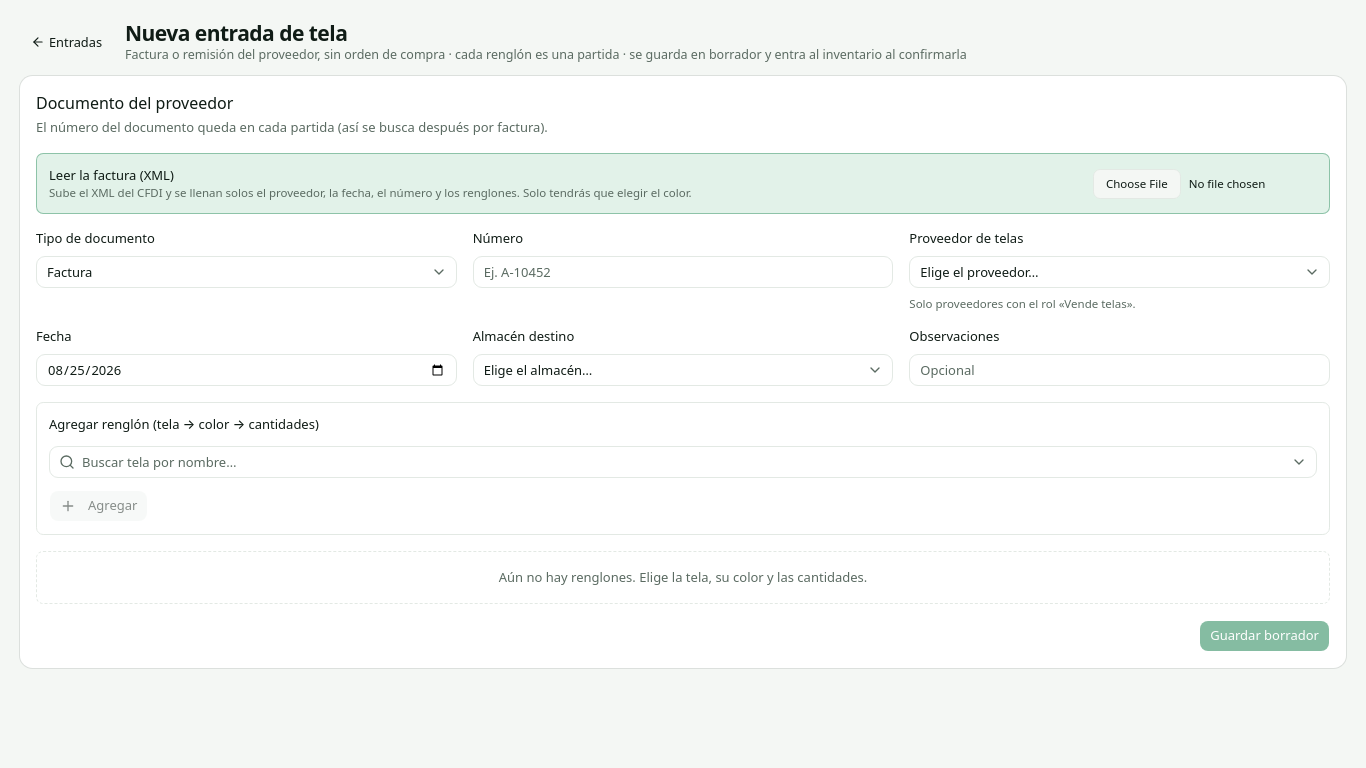
CapturaEntradaTelaPagina (B1) › §Post-F9.22: el proveedor que NO factura pierde el camino del CFDI
Select "Textiles del Norte" in the dropdown with test id "entrada-proveedor" at [1120, 272], box left=909, top=256, right=1330, bottom=288
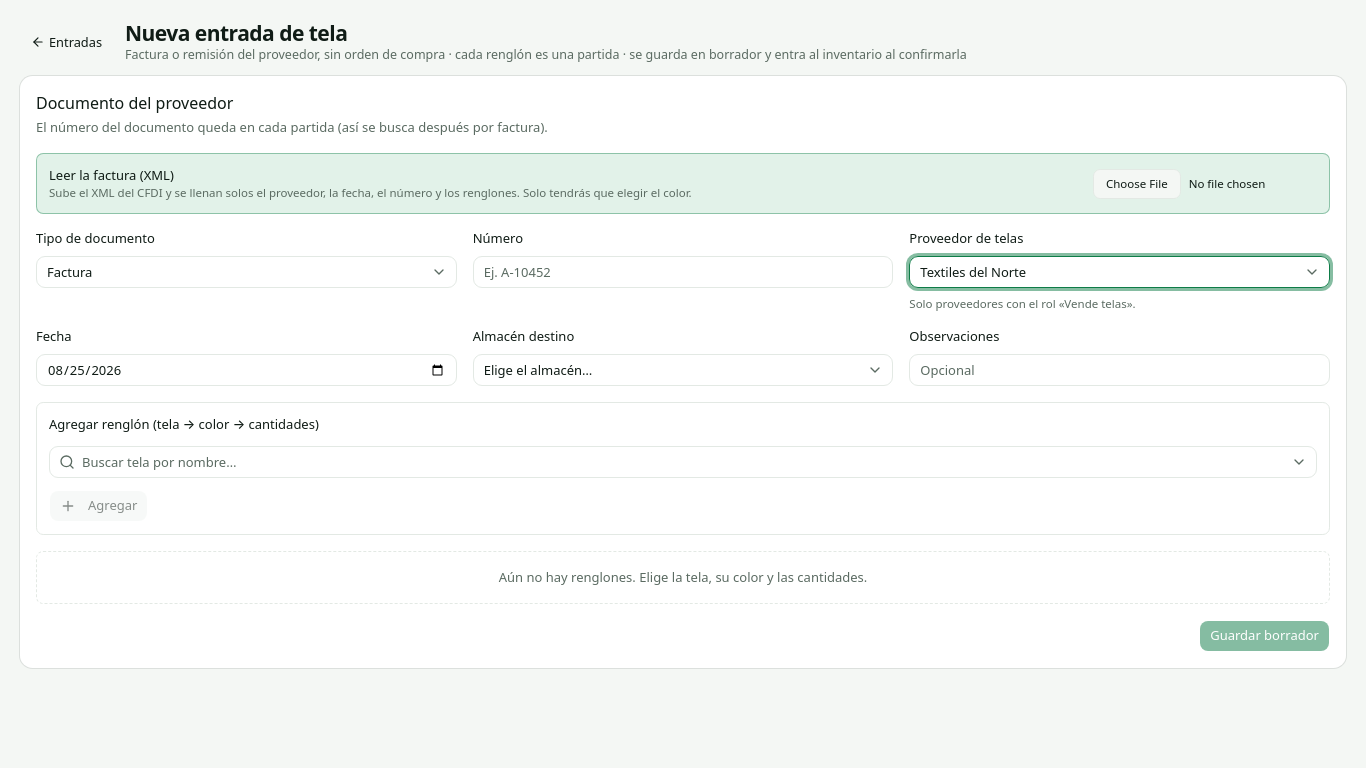
expect the element with test id "entrada-leer-cfdi" is shown: met, box left=36, top=153, right=1330, bottom=214
expect the dropdown with test id "entrada-tipo" shows "Factura": met, box left=36, top=256, right=457, bottom=288
Select "Talleres Don Chuy" in the dropdown with test id "entrada-proveedor" at [1120, 272], box left=909, top=256, right=1330, bottom=288
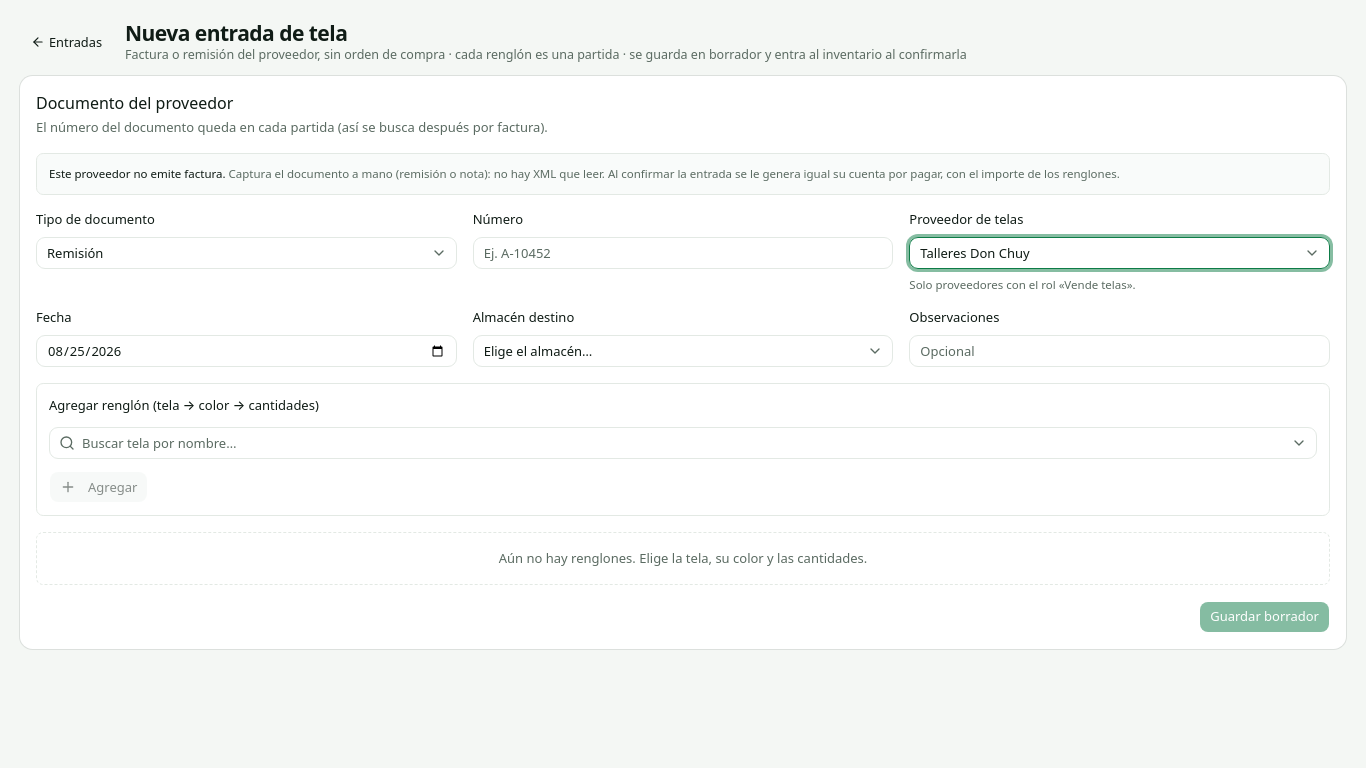
expect the element with test id "entrada-leer-cfdi" is gone: met
expect the dropdown with test id "entrada-tipo" shows "Remisión": met, box left=36, top=237, right=457, bottom=269
expect the element with test id "entrada-proveedor-sin-factura" shows "cuenta por pagar": met, box left=229, top=166, right=1120, bottom=181
